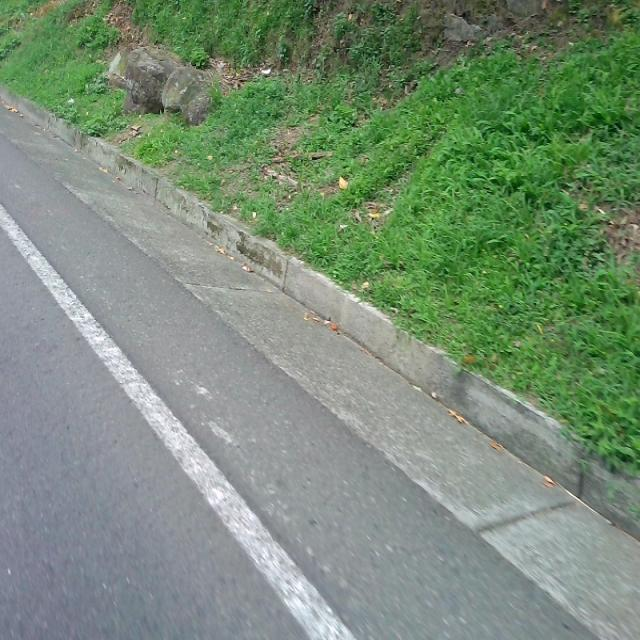DITCH: (1, 85, 638, 639), (1, 110, 638, 638)
